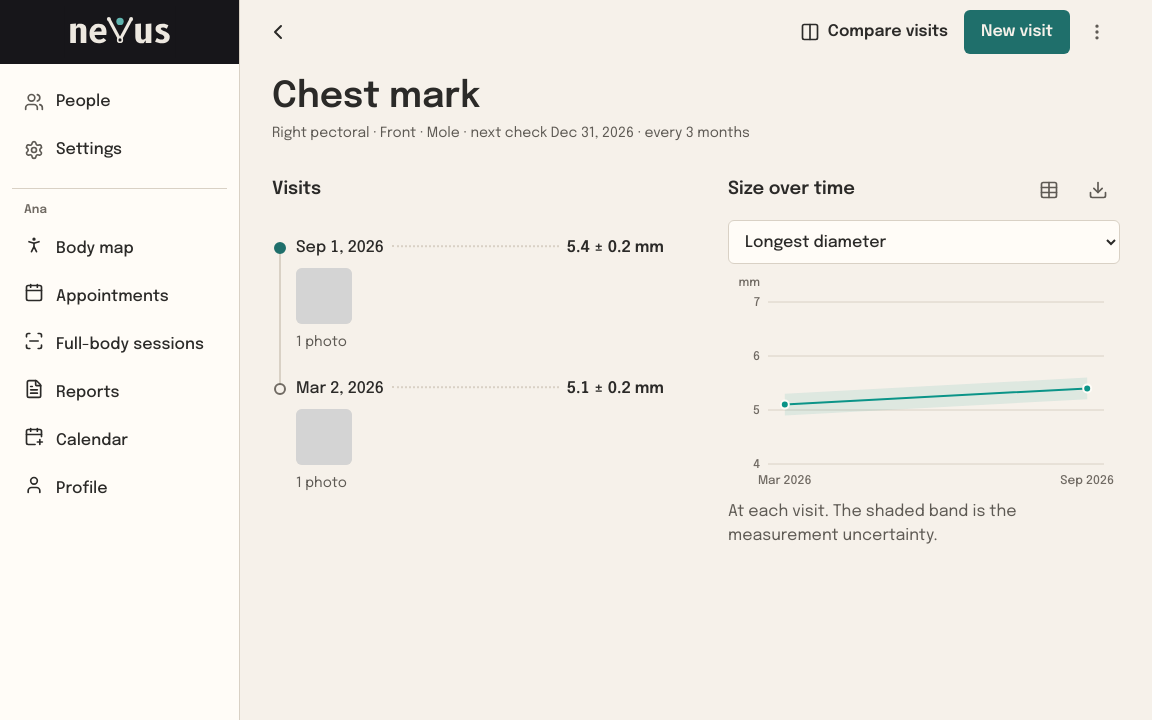
Test: size over time › offers the shape and the colour as series and columns when the measurements carry them
Select "Compactness" in the dropdown named "Show": (924, 242) [728,220,1120,264]
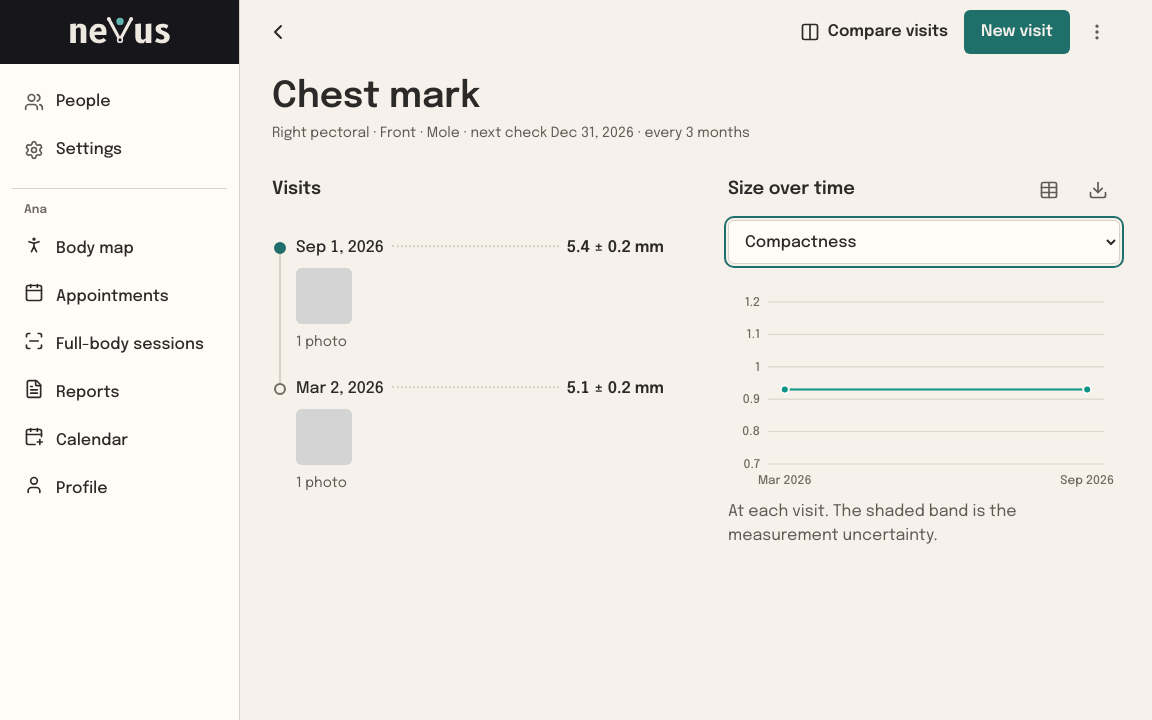
Expected: the slider named "Compactness at 2 visits" has attribute aria-valuetext="Sep 1, 2026: 0.93", [728,272,1120,492]
Select "Colour contrast" in the dropdown named "Show": (924, 242) [728,220,1120,264]
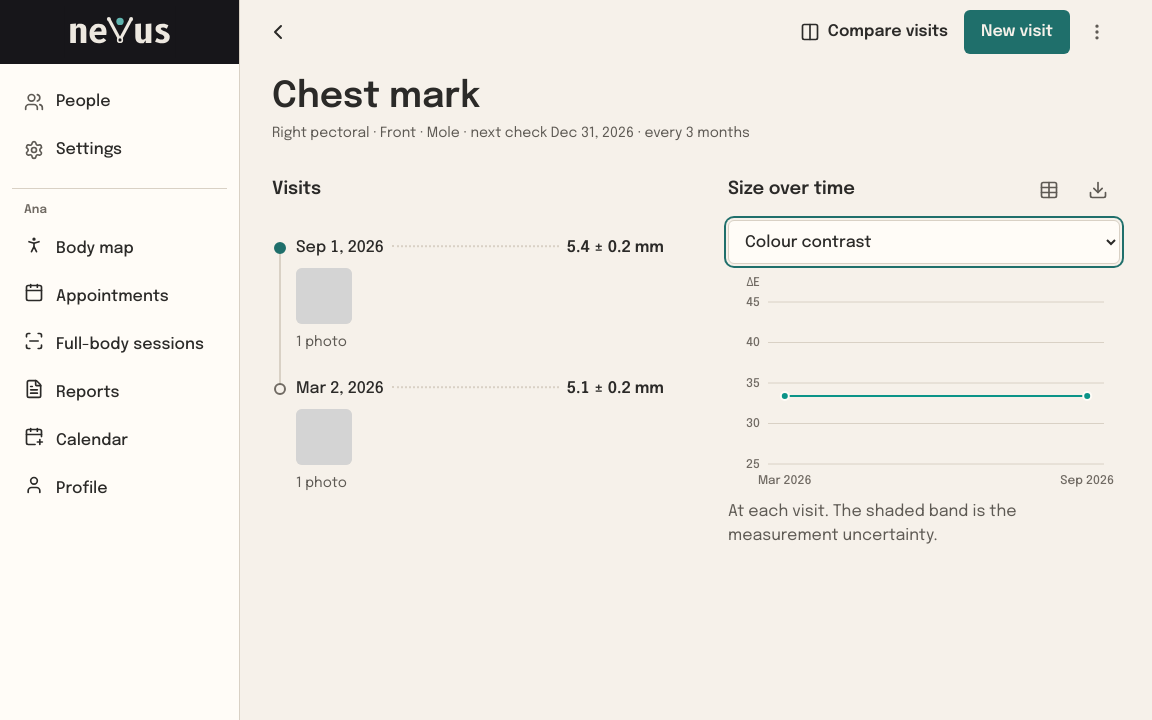
Expected: the slider named "Colour contrast at 2 visits" has attribute aria-valuetext="Sep 1, 2026: 33 ΔE", [728,272,1120,492]
Click the button named "Show as a table": (1049, 190) [1026,168,1072,212]
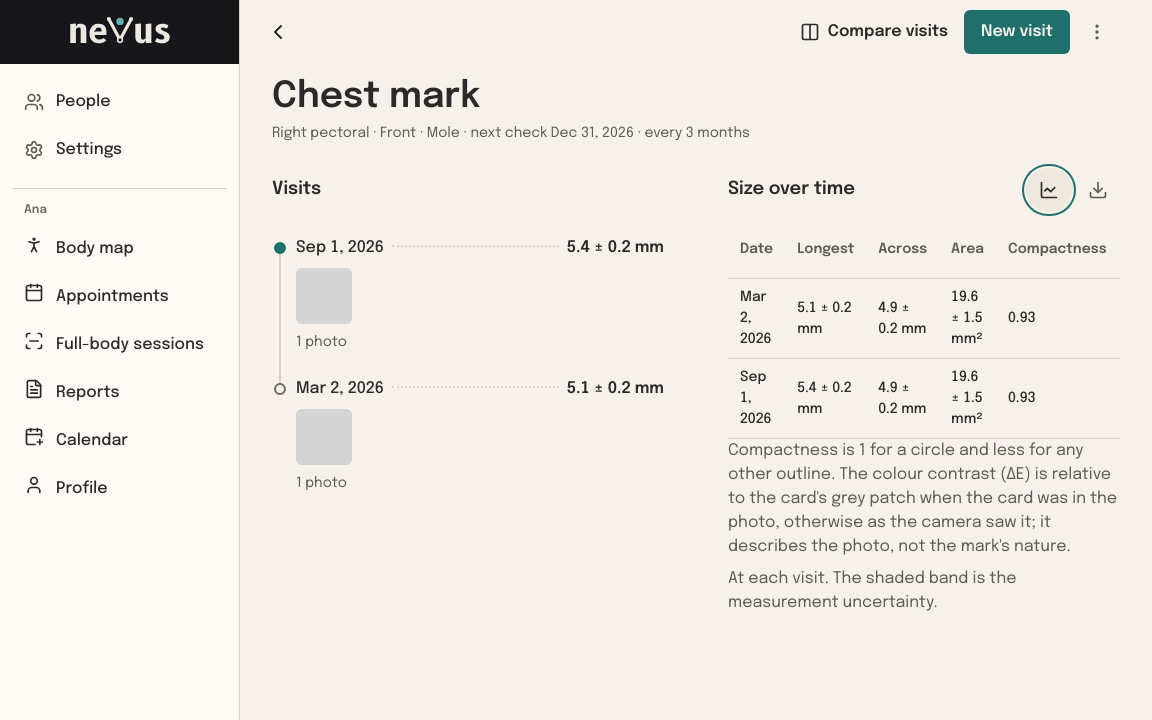
Expected: the column heading "Compactness" is shown, [996,220,1118,279]
Expected: the text "0.93" is shown 2 times, [996,279,1118,359]; [996,359,1118,439]
Expected: the text "Compactness is 1 for a circle" is shown, [728,442,1117,555]
